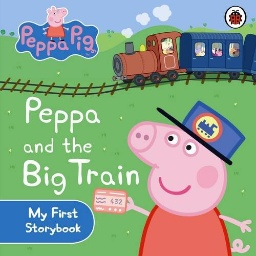Peppa: (115, 99, 254, 256)
